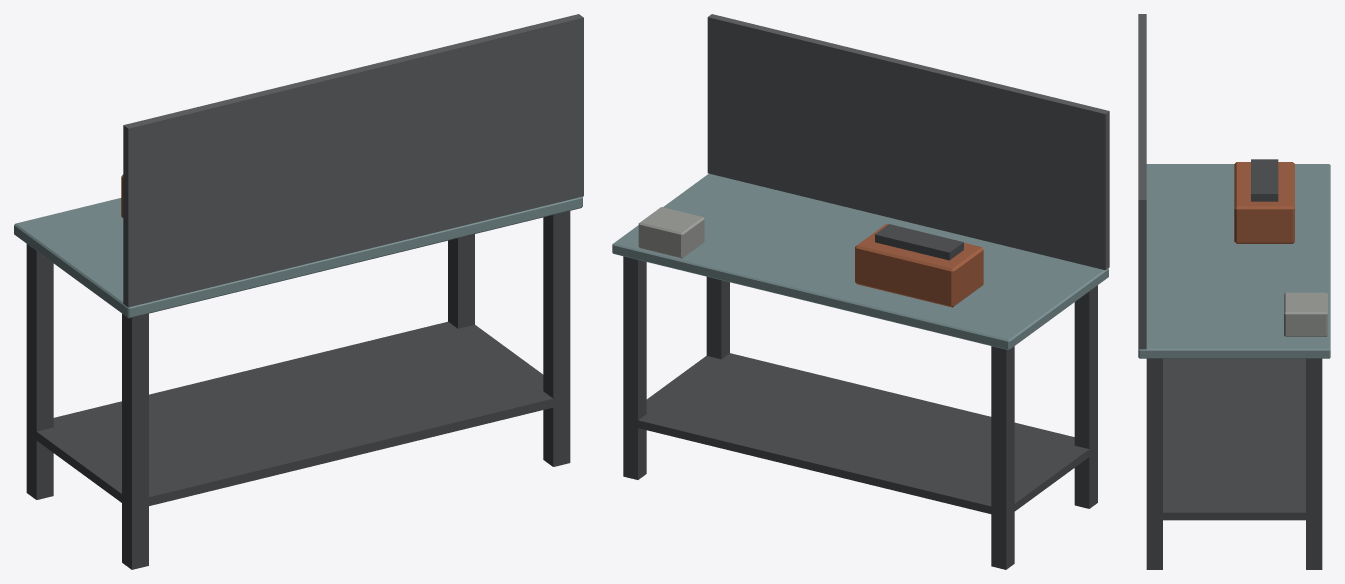
The model's file is workbench.glb.
3 renders of one model, left to right at view 1: azimuth 30°, elevation 25°; view 2: azimuth 150°, elevation 25°; view 3: azimuth 270°, elevation 25°, orthographic. The views are drawn at different scales.
Visible parts, largest first — view 1: workbench; view 2: workbench; view 3: workbench.
Boxes of the visible parts, <box> form: workbench: <box>14,14,583,569</box>; workbench: <box>612,14,1109,569</box>; workbench: <box>1138,14,1330,569</box>.
Size of the model in its own units: 1.6 by 1.5 by 0.7.
